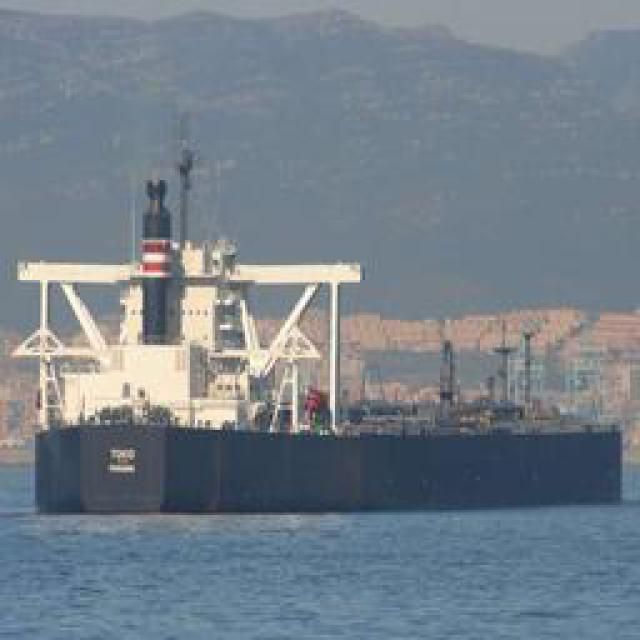Ship: (26, 260, 629, 518)
